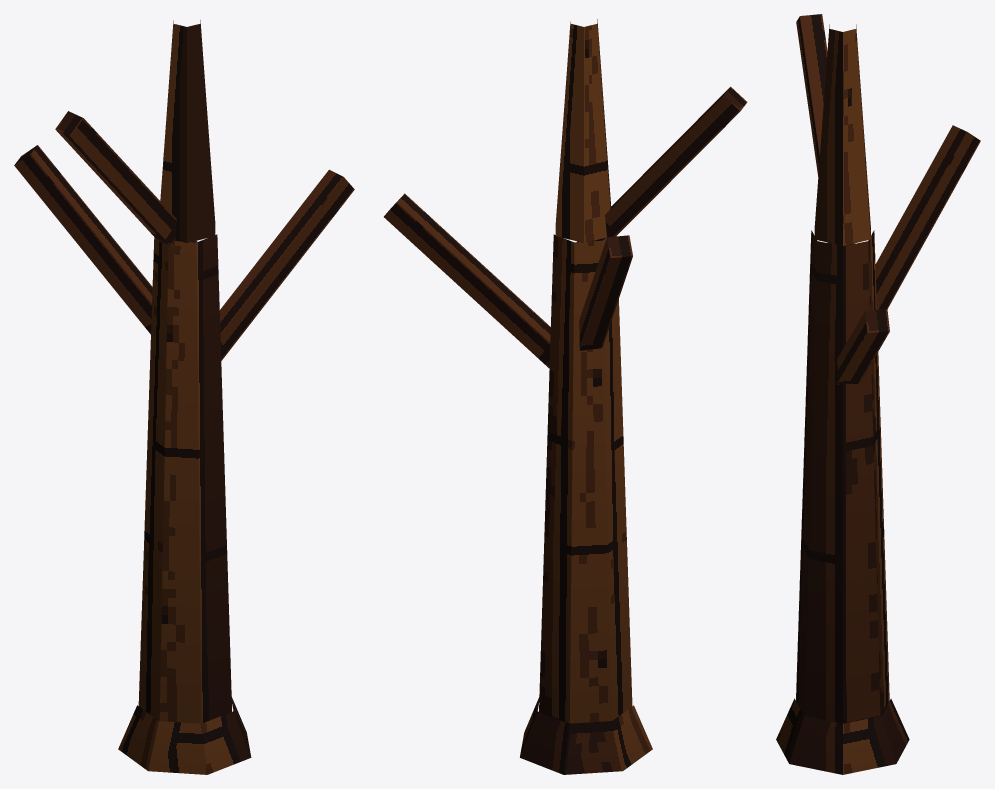
Rendered from apple_2_trunk.glb.
3 views of the same model, side by side, from view 1: azimuth 30°, elevation 25°; view 2: azimuth 150°, elevation 25°; view 3: azimuth 270°, elevation 25° (orthographic).
Visible parts, largest first — view 1: apple_2_trunk; view 2: apple_2_trunk; view 3: apple_2_trunk.
Part boxes in pixels (x1=…): apple_2_trunk: x1=14, y1=20, x2=354, y2=774; apple_2_trunk: x1=384, y1=19, x2=747, y2=774; apple_2_trunk: x1=776, y1=14, x2=980, y2=774.
Bounding box in the file's own units: 1.95 × 4.18 × 1.08.
Materials: 1 (1 with a texture image).
